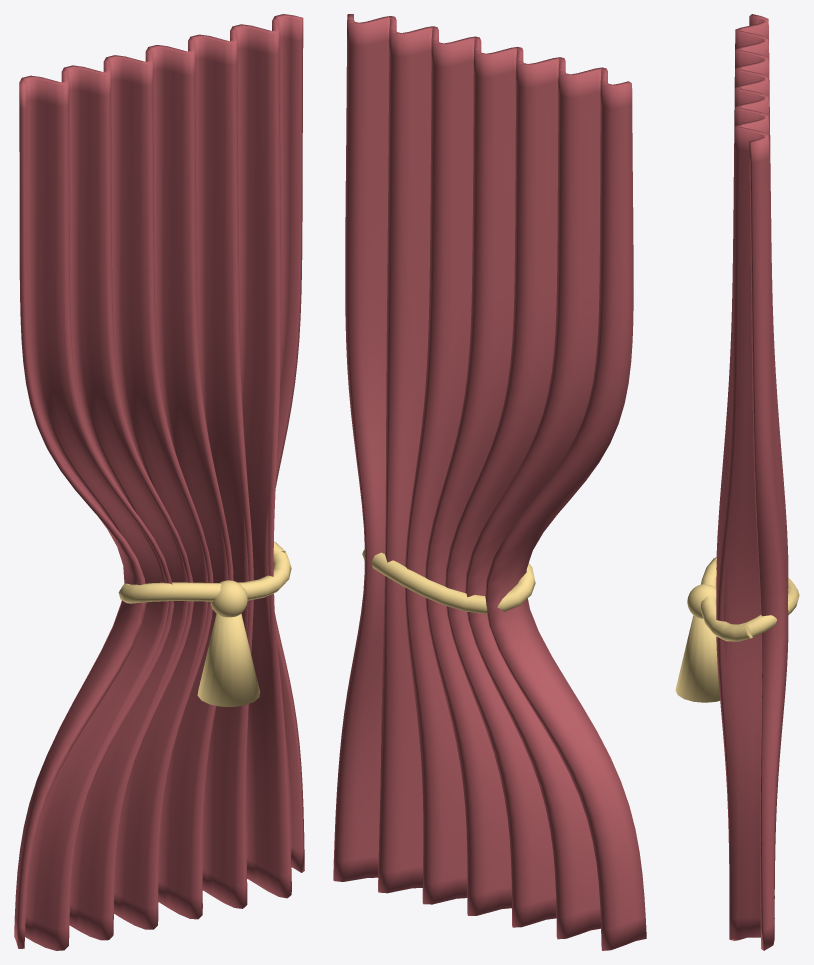
File: curtain_r.glb
3 renders of one model, left to right at view 1: azimuth 30°, elevation 25°; view 2: azimuth 150°, elevation 25°; view 3: azimuth 270°, elevation 25°, orthographic. The views are drawn at different scales.
Parts seen in each view (by area): view 1: curtain_r; view 2: curtain_r; view 3: curtain_r.
Part boxes in pixels (box(x1,y1,x2,y2)): curtain_r: box(14, 14, 304, 950); curtain_r: box(333, 14, 646, 950); curtain_r: box(675, 14, 799, 950).
Bounding box in the file's own units: 1.09 × 3.02 × 0.4198.
